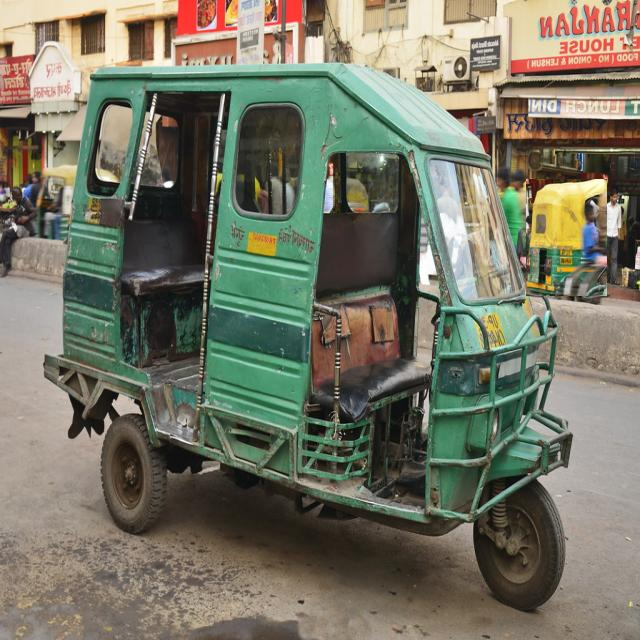autorickshaw: (44, 66, 572, 609), (526, 180, 606, 296), (35, 165, 76, 240)
